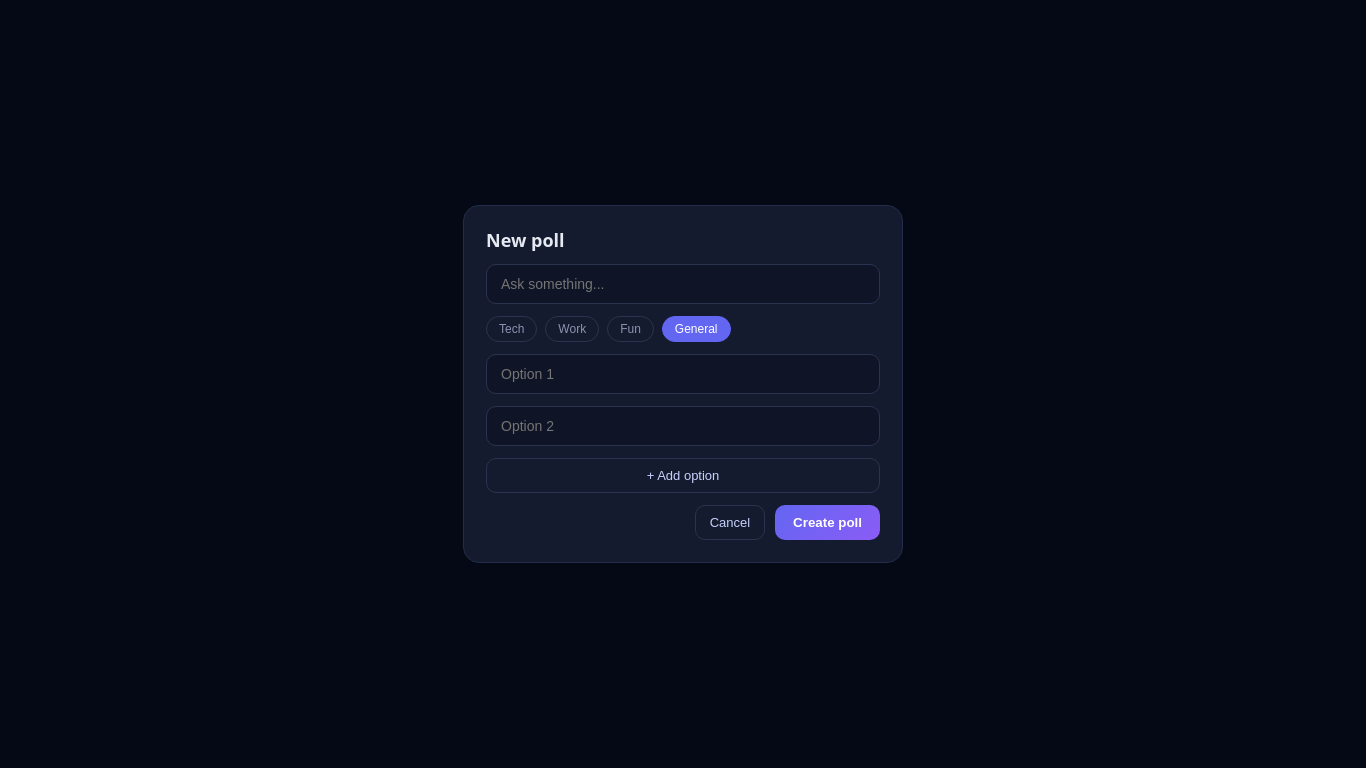
Test: CreatePoll › adds and removes option fields
Later steps or results of the test are not shown.
Click the button "+ Add option" at (683, 476), box [486,458,880,493]
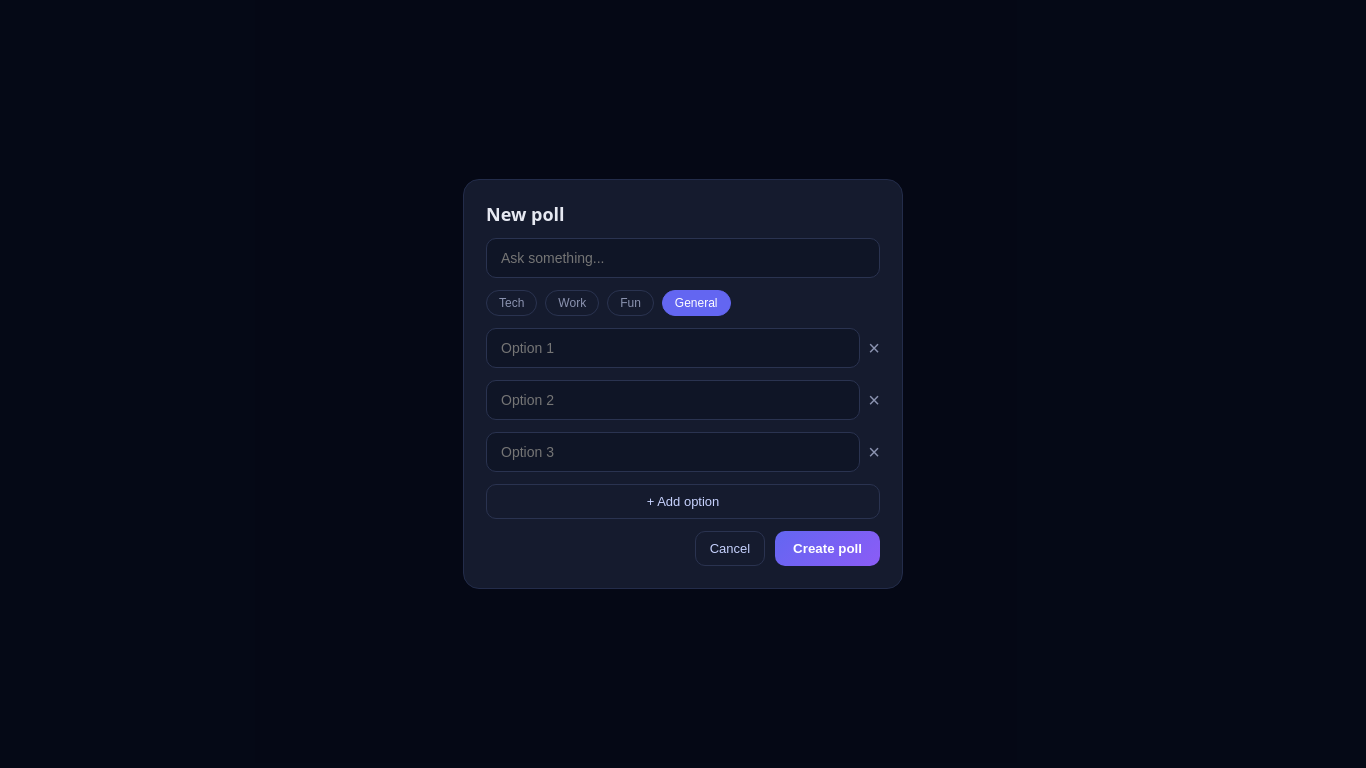
Expected: the field with placeholder "Option 3" is shown, [486,432,860,472]
